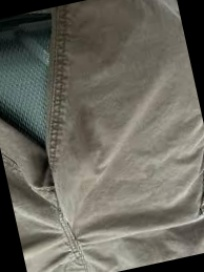oil: (67, 110, 109, 175), (145, 167, 157, 183)
